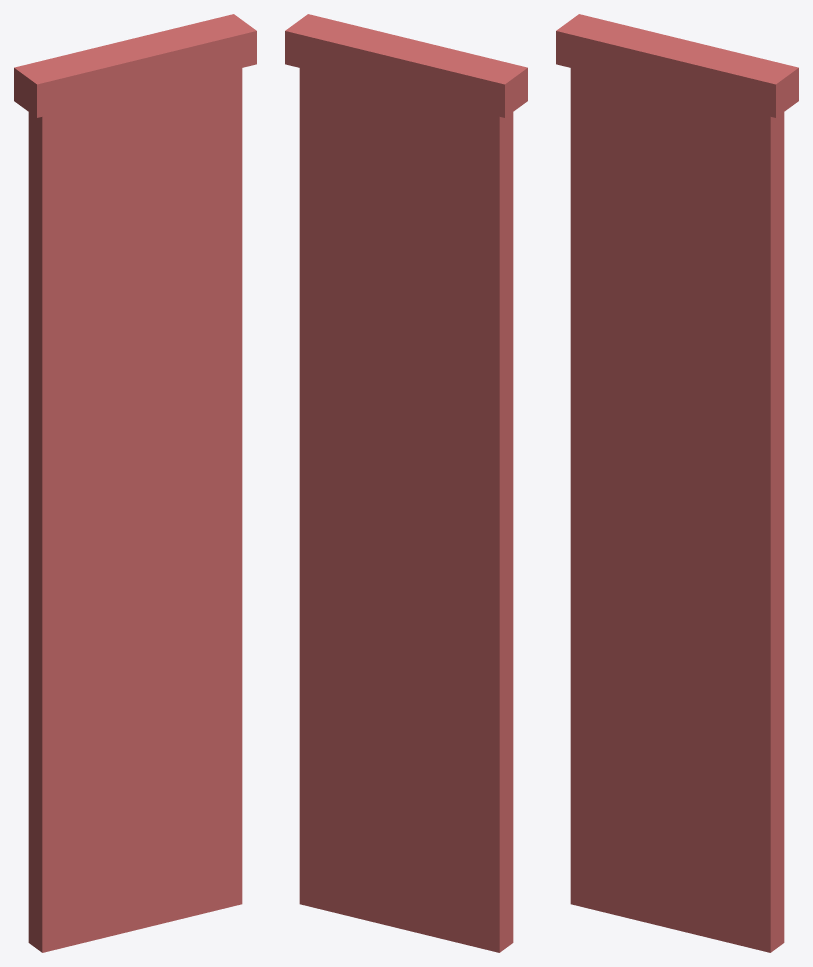
The model's file is curtain.glb.
The picture shows the model from 3 angles, left to right: view 1: azimuth 30°, elevation 25°; view 2: azimuth 150°, elevation 25°; view 3: azimuth 330°, elevation 25°; orthographic projection.
Parts seen in each view (by area): view 1: curtain; view 2: curtain; view 3: curtain.
Boxes of the visible parts, x1,y1,x2,y2 form: curtain: (14,14,256,952); curtain: (285,14,527,952); curtain: (556,14,798,952).
Bounding box in the file's own units: 0.55 × 2.09 × 0.1.
